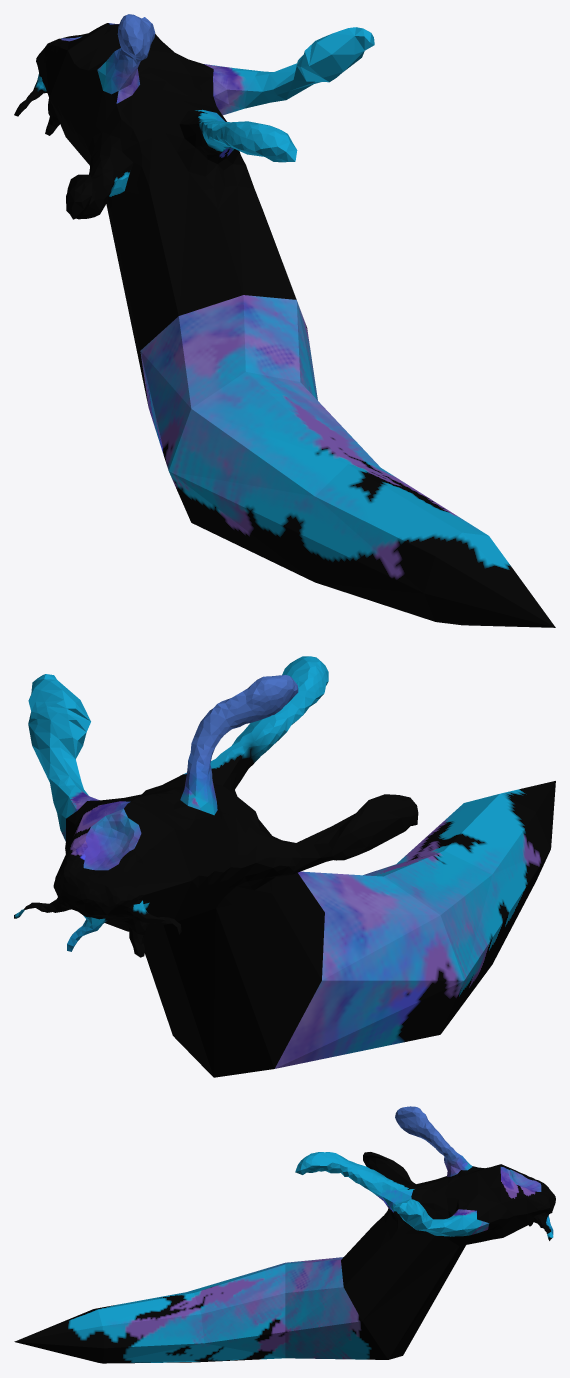
File: Spook.obj
3 renders of one model, top to bottom at view 1: azimuth 30°, elevation 25°; view 2: azimuth 150°, elevation 25°; view 3: azimuth 270°, elevation 25°, orthographic. The views are drawn at different scales.
Parts seen in each view (by area): view 1: Cylinder; view 2: Cylinder; view 3: Cylinder.
Part boxes in pixels (x1=…): Cylinder: x1=14, y1=14, x2=555, y2=627; Cylinder: x1=14, y1=656, x2=555, y2=1077; Cylinder: x1=14, y1=1106, x2=555, y2=1363.
Size of the model in its own units: 2.24 by 2.79 by 5.51.
